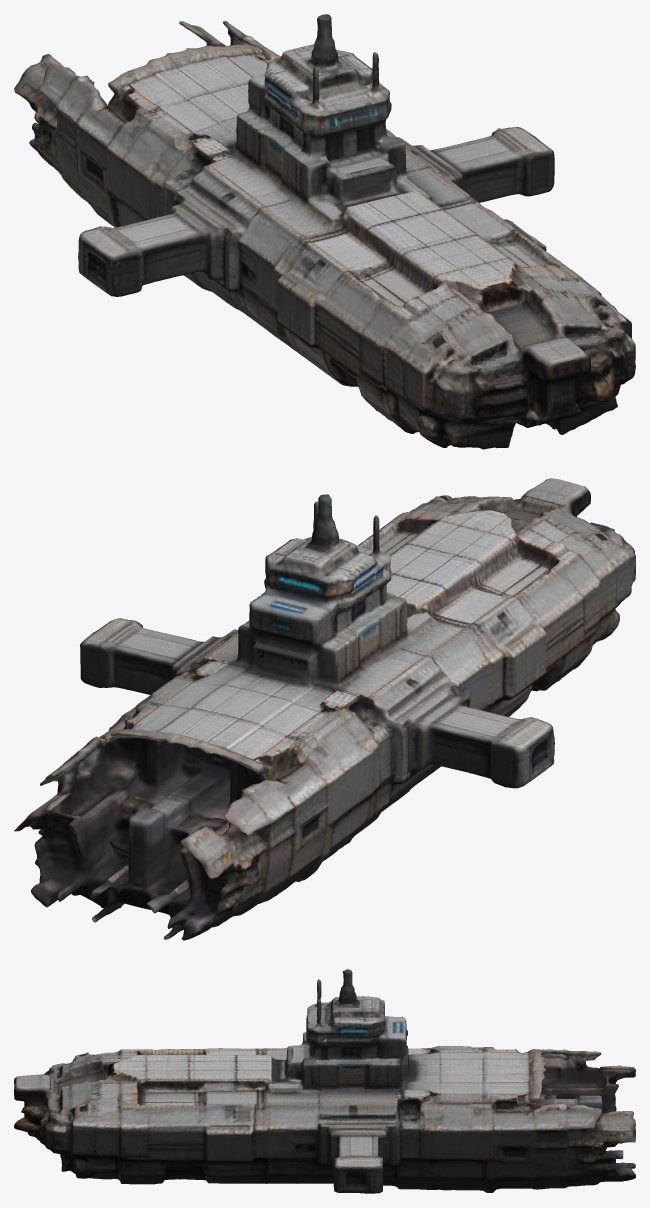
Rendered from estacion_recuperacion.glb.
3 renders of one model, top to bottom at view 1: azimuth 30°, elevation 25°; view 2: azimuth 150°, elevation 25°; view 3: azimuth 270°, elevation 25°, orthographic. The views are drawn at different scales.
Parts seen in each view (by area): view 1: input; view 2: input; view 3: input.
Part boxes in pixels (left/top/right/bottom): input: left=14, top=14, right=635, bottom=449; input: left=14, top=478, right=635, bottom=940; input: left=14, top=969, right=635, bottom=1193.
Size of the model in its own units: 33.71 by 21.34 by 60.
1 material, 1 textured.
